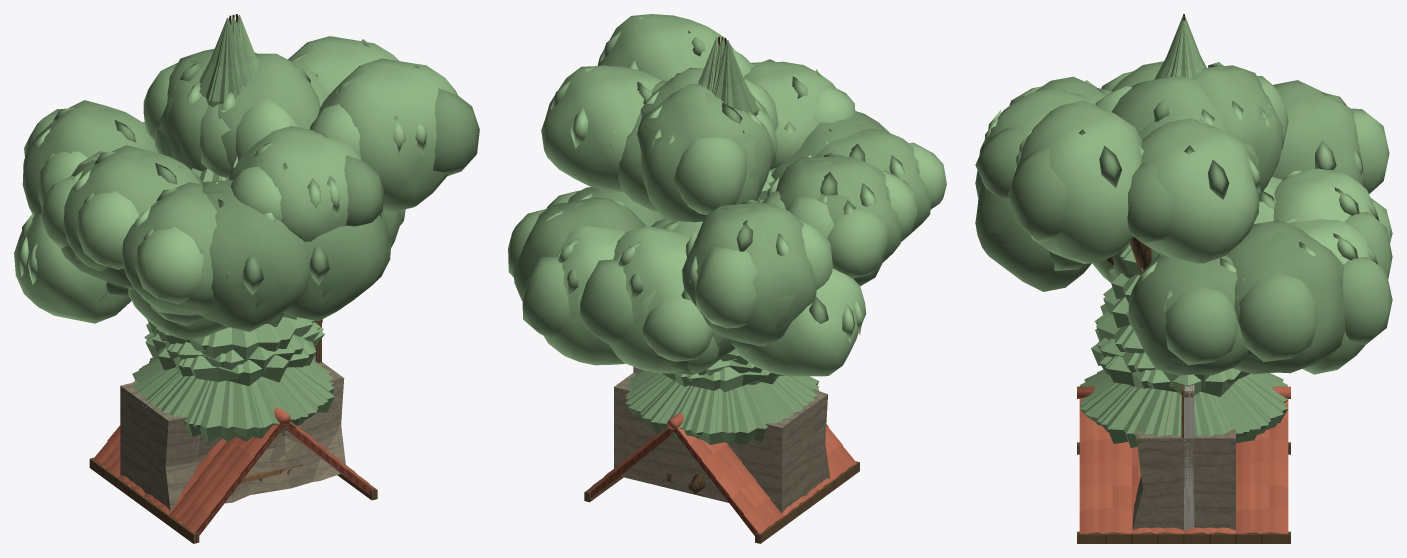
File: environment_b1_v001.glb
3 renders of one model, left to right at view 1: azimuth 30°, elevation 25°; view 2: azimuth 150°, elevation 25°; view 3: azimuth 270°, elevation 25°, orthographic. The views are drawn at different scales.
Visible parts, largest first — view 1: env_tree_oak_b_LOD0_mesh, env_tree_oak_c_LOD0_mesh, env_tree_oak_a_LOD0_mesh, env_cliff_straight_a_LOD0_mesh, env_roof_gable_a_LOD0_mesh, env_tree_pine_a_LOD0_mesh, env_cliff_straight_a_LOD2_mesh, env_tree_pine_a_LOD1_mesh, env_tree_pine_c_LOD0_mesh, env_tree_pine_b_LOD0_mesh, env_roof_gable_a_LOD1_mesh, env_tree_pine_b_LOD1_mesh (+5 smaller); view 2: env_tree_oak_c_LOD0_mesh, env_tree_oak_a_LOD0_mesh, env_tree_oak_b_LOD0_mesh, env_cliff_straight_a_LOD0_mesh, env_roof_gable_a_LOD0_mesh, env_tree_pine_a_LOD0_mesh, env_tree_pine_a_LOD1_mesh, env_roof_gable_a_LOD1_mesh, env_tree_pine_c_LOD0_mesh, env_tree_pine_b_LOD0_mesh, env_tree_oak_c_LOD1_mesh, env_tree_pine_b_LOD1_mesh (+5 smaller); view 3: env_tree_oak_b_LOD0_mesh, env_tree_oak_a_LOD0_mesh, env_tree_oak_c_LOD0_mesh, env_roof_gable_a_LOD0_mesh, env_cliff_straight_a_LOD0_mesh, env_roof_gable_a_LOD1_mesh, env_tree_pine_a_LOD0_mesh, env_tree_pine_c_LOD0_mesh, env_tree_pine_a_LOD1_mesh, env_tree_pine_b_LOD0_mesh, env_tree_pine_c_LOD1_mesh, env_tree_pine_b_LOD1_mesh (+8 smaller).
Boxes of the visible parts, left/top/right/bottom form: env_tree_oak_b_LOD0_mesh: left=63, top=58, right=479, bottom=474; env_tree_oak_c_LOD0_mesh: left=14, top=36, right=398, bottom=481; env_tree_oak_a_LOD0_mesh: left=22, top=53, right=405, bottom=289; env_cliff_straight_a_LOD0_mesh: left=120, top=362, right=346, bottom=511; env_roof_gable_a_LOD0_mesh: left=90, top=407, right=375, bottom=542; env_tree_pine_a_LOD0_mesh: left=132, top=16, right=334, bottom=441; env_cliff_straight_a_LOD2_mesh: left=121, top=362, right=344, bottom=498; env_tree_pine_a_LOD1_mesh: left=134, top=15, right=333, bottom=437; env_tree_pine_c_LOD0_mesh: left=139, top=14, right=328, bottom=441; env_tree_pine_b_LOD0_mesh: left=133, top=15, right=334, bottom=441; env_roof_gable_a_LOD1_mesh: left=89, top=410, right=377, bottom=543; env_tree_pine_b_LOD1_mesh: left=141, top=14, right=324, bottom=436; env_tree_oak_c_LOD0_mesh: left=541, top=64, right=946, bottom=376; env_tree_oak_a_LOD0_mesh: left=522, top=59, right=887, bottom=494; env_tree_oak_b_LOD0_mesh: left=508, top=14, right=917, bottom=373; env_cliff_straight_a_LOD0_mesh: left=614, top=373, right=830, bottom=513; env_roof_gable_a_LOD0_mesh: left=585, top=413, right=856, bottom=542; env_tree_pine_a_LOD0_mesh: left=625, top=38, right=819, bottom=444; env_tree_pine_a_LOD1_mesh: left=627, top=38, right=817, bottom=444; env_roof_gable_a_LOD1_mesh: left=584, top=414, right=859, bottom=543; env_tree_pine_c_LOD0_mesh: left=625, top=37, right=818, bottom=439; env_tree_pine_b_LOD0_mesh: left=629, top=37, right=814, bottom=441; env_tree_oak_c_LOD1_mesh: left=581, top=70, right=883, bottom=362; env_tree_pine_b_LOD1_mesh: left=625, top=38, right=818, bottom=443; env_tree_oak_b_LOD0_mesh: left=975, top=61, right=1392, bottom=374; env_tree_oak_a_LOD0_mesh: left=975, top=76, right=1392, bottom=375; env_tree_oak_c_LOD0_mesh: left=975, top=62, right=1392, bottom=291; env_roof_gable_a_LOD0_mesh: left=1077, top=387, right=1290, bottom=539; env_cliff_straight_a_LOD0_mesh: left=1132, top=429, right=1235, bottom=530; env_roof_gable_a_LOD1_mesh: left=1077, top=390, right=1290, bottom=543; env_tree_pine_a_LOD0_mesh: left=1080, top=15, right=1287, bottom=443; env_tree_pine_c_LOD0_mesh: left=1080, top=18, right=1280, bottom=436; env_tree_pine_a_LOD1_mesh: left=1084, top=14, right=1283, bottom=442; env_tree_pine_b_LOD0_mesh: left=1090, top=16, right=1287, bottom=447; env_tree_pine_c_LOD1_mesh: left=1082, top=17, right=1272, bottom=442; env_tree_pine_b_LOD1_mesh: left=1096, top=16, right=1286, bottom=437.
Size of the model in its own units: 8 by 10.19 by 8.
18 materials, 10 textured.
